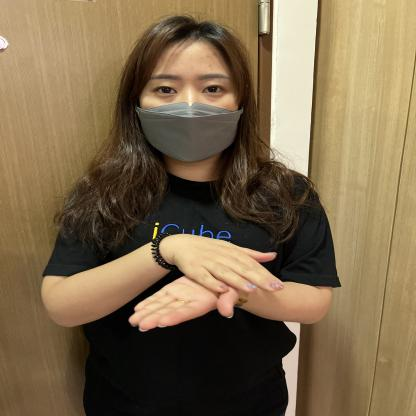Love: (50, 216, 404, 344)
